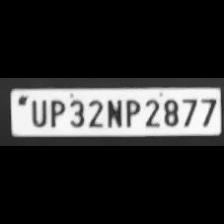2: (142, 96, 160, 128), (86, 97, 104, 127)
3: (66, 97, 84, 127)
7: (196, 96, 218, 128), (180, 96, 196, 126)
8: (160, 96, 180, 128)
N: (104, 97, 122, 128)
P: (46, 97, 66, 127), (122, 96, 140, 128)
U: (27, 98, 47, 127)
